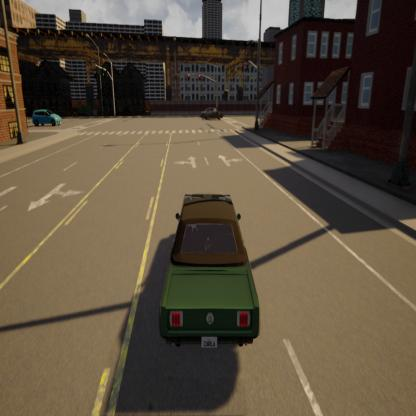Cars: (150, 177, 272, 358), (29, 106, 64, 134), (198, 105, 226, 124)
